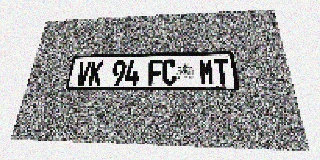4: (125, 60, 140, 85)
9: (111, 60, 127, 85)
C: (162, 59, 176, 85)
F: (148, 60, 162, 85)
K: (88, 61, 104, 85)
M: (199, 59, 215, 85)
T: (213, 58, 231, 85)
V: (75, 61, 92, 85)
